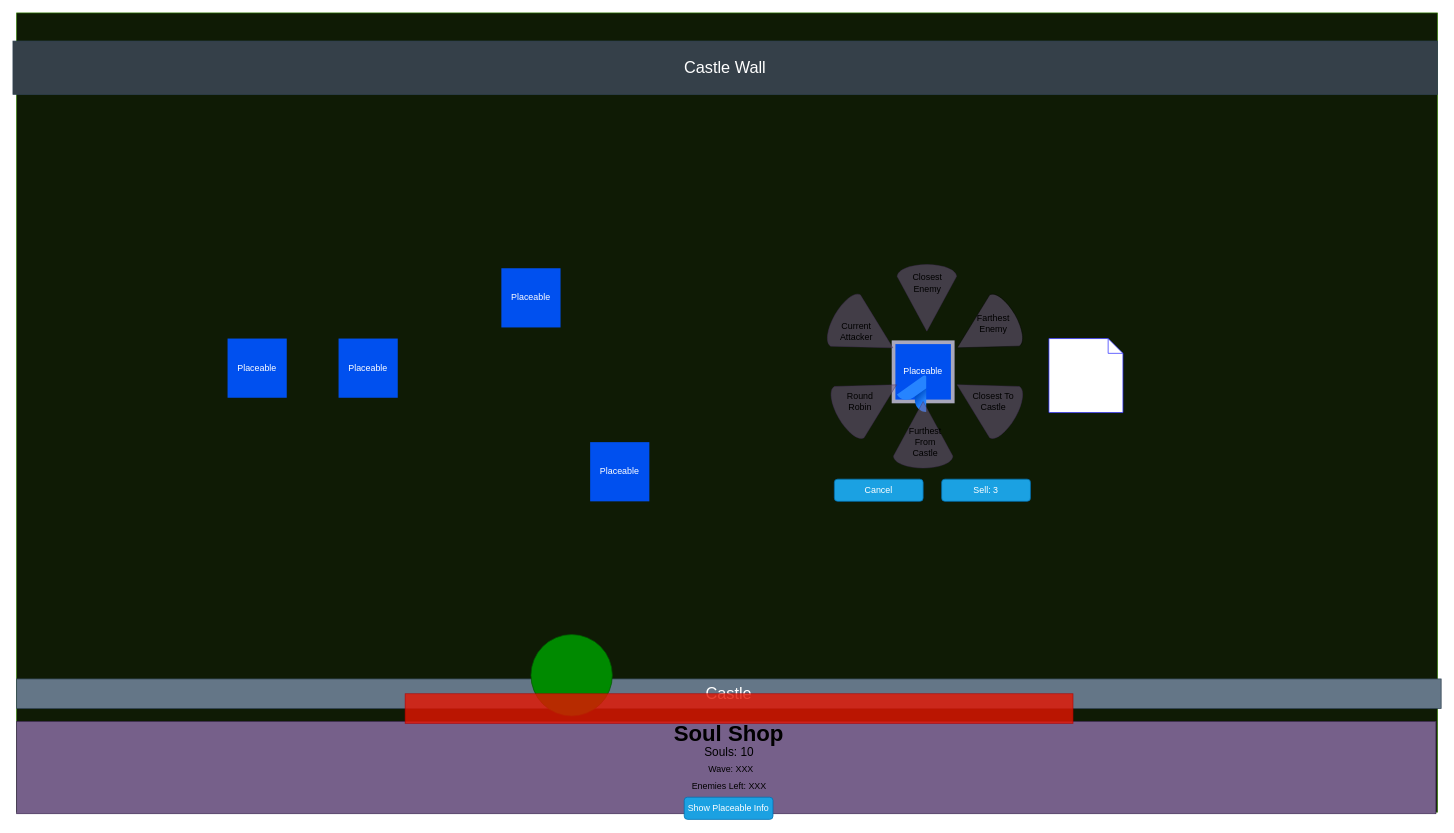
This 1454x833 diagram has some shape labels left out. The shapes that lost their labels are listed below. From the top down, each one's centre as x and y in pixels, then its label:
At point (1085, 375): "Pops up when clicking on placeable".
At point (571, 675): "Dragon".
At point (738, 708): "Castle Health Bar".
